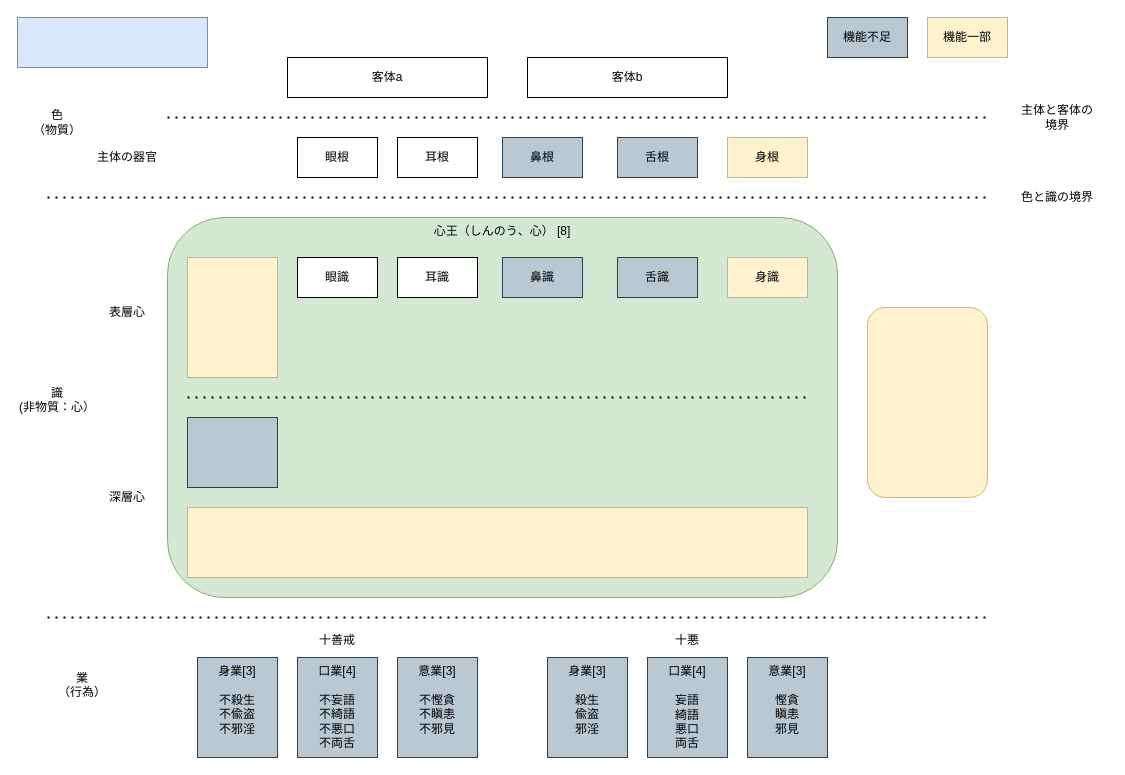
This 1125x775 diagram has some shape labels left out. Each missing label, with the centre of its shape:
唯識思想：AI(2025/04時点） 全体像: the point at 112,42
心所 [51] （しんじょ） 細かい心作用 遍行 別境 善 煩悩 随 煩悩 不定: the point at 927,402
意識 思考: the point at 232,317
未那識 （まなしき） 自我執着心: the point at 232,452
阿頼耶識 （あらやしき：蔵識、一切種子識） 根本心、業の結果を貯蔵する: the point at 497,542
